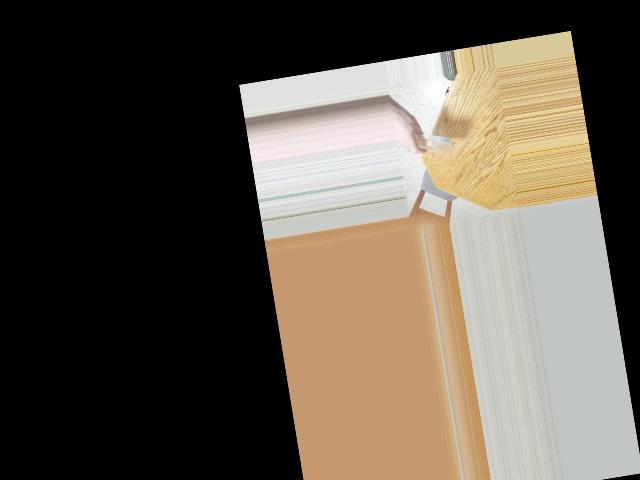cheese: (414, 128, 450, 161)
